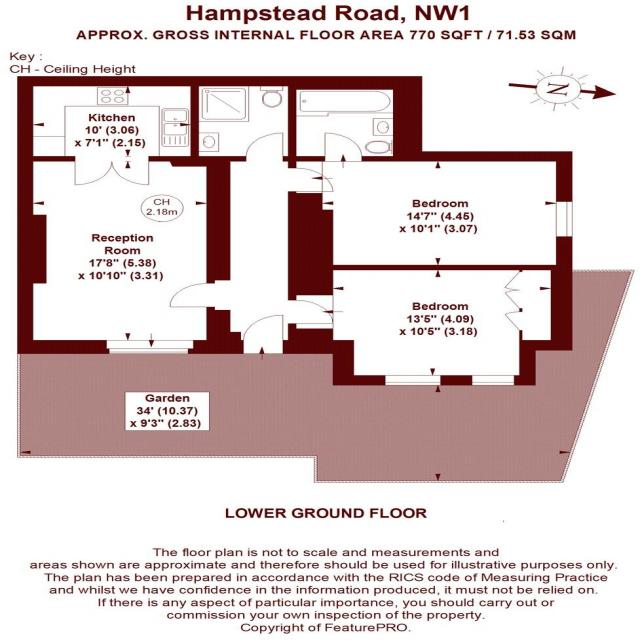DOOR: (242, 312, 289, 343), (288, 295, 335, 326), (168, 280, 216, 310), (242, 131, 288, 162), (287, 165, 335, 193), (322, 131, 365, 162)
DOUBLE DOOR: (70, 156, 153, 188)
ROOM: (16, 156, 229, 354), (289, 132, 577, 270), (286, 265, 573, 386), (16, 76, 199, 187)
WINDOW: (103, 339, 199, 354), (555, 199, 575, 239), (382, 374, 443, 386), (468, 375, 518, 385)
